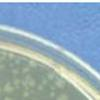white: (54, 77, 66, 88), (55, 93, 68, 100), (3, 85, 14, 92), (37, 85, 45, 93), (47, 72, 55, 80), (42, 80, 51, 87), (27, 61, 37, 67), (20, 66, 28, 73), (15, 59, 22, 67), (4, 95, 14, 100), (29, 80, 36, 87), (6, 53, 14, 59), (24, 74, 32, 80), (0, 64, 7, 70), (22, 80, 29, 86), (13, 83, 21, 88), (0, 56, 6, 62), (49, 92, 55, 98), (7, 63, 14, 68), (0, 52, 6, 57), (12, 69, 17, 74), (30, 89, 35, 94), (23, 91, 29, 95), (4, 82, 9, 86), (13, 79, 18, 82), (23, 86, 28, 89)
